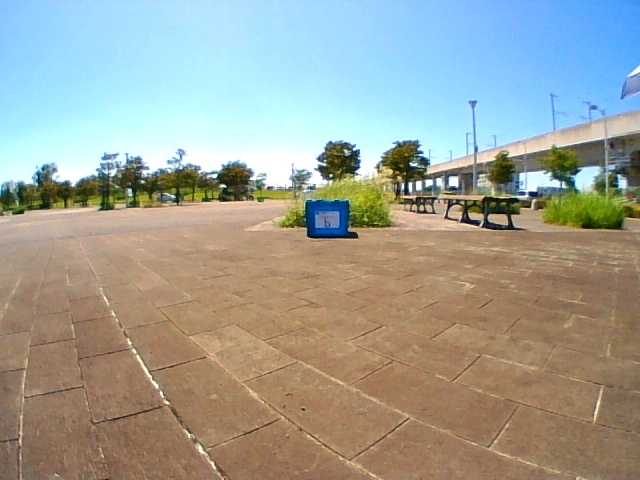blue_box: (306, 200, 348, 238)
tag_b: (316, 211, 338, 227)
